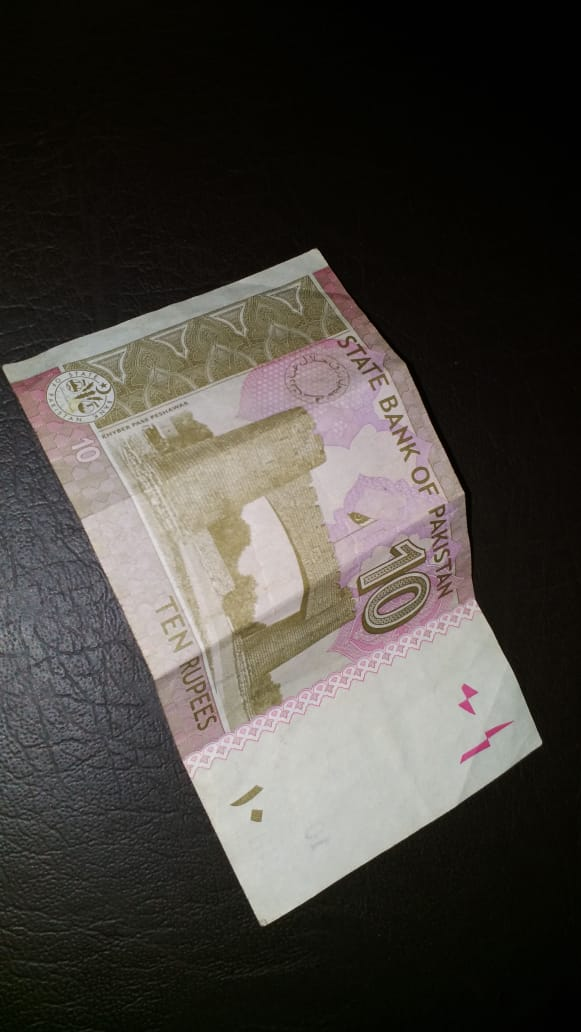10 rupee: (7, 244, 552, 929)
